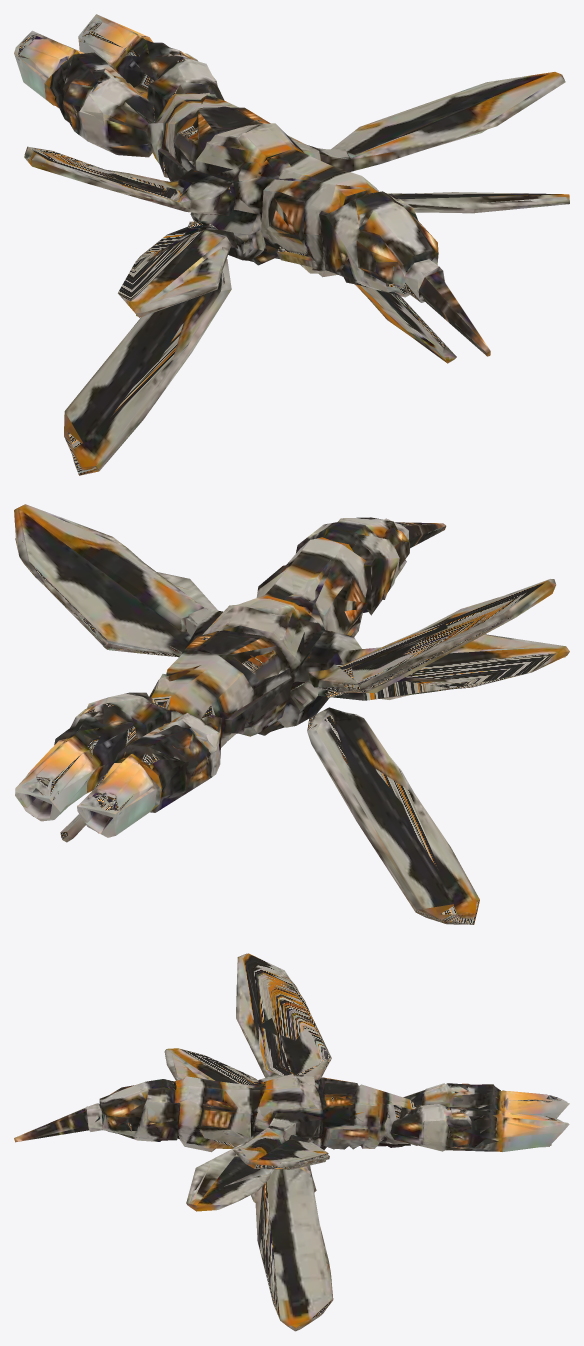
The model's file is boss-hornet.glb.
3 views of the same model, one above another, from view 1: azimuth 30°, elevation 25°; view 2: azimuth 150°, elevation 25°; view 3: azimuth 270°, elevation 25° (orthographic). The views are drawn at different scales.
Bounding box in the file's own units: 0.9085 × 0.5623 × 1.21.
1 material, 1 textured.
